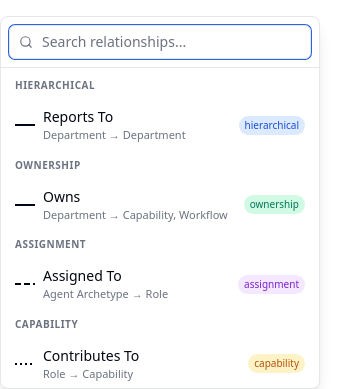
Scenario: RelationshipPalette › should filter items when searching
The image size is (337, 389).
(page scrolled)
Type "governs" into the field with test id "rel-palette-search" at (160, 42), box [9,25,311,59]
(page scrolled)
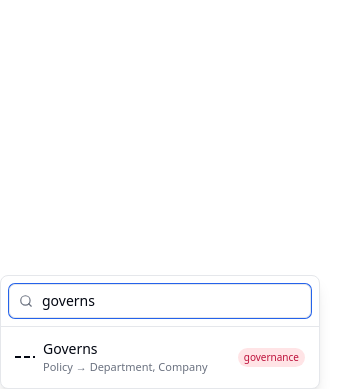
Result: the button with test id "rel-palette-item-governs" is shown at [5,331,315,384]
Result: the button with test id "rel-palette-item-reports_to" is gone
Result: the element with test id "rel-palette-group-hierarchical" is gone
